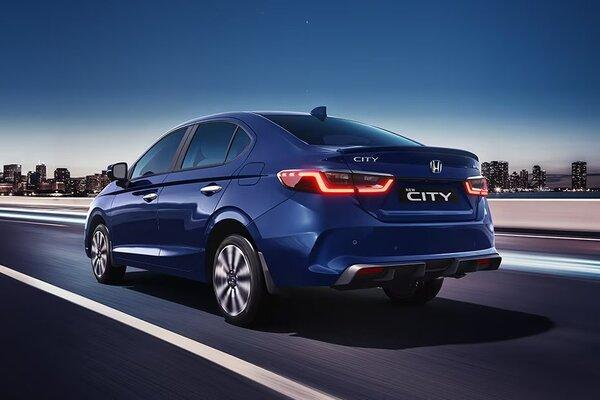car: (83, 103, 504, 326)
